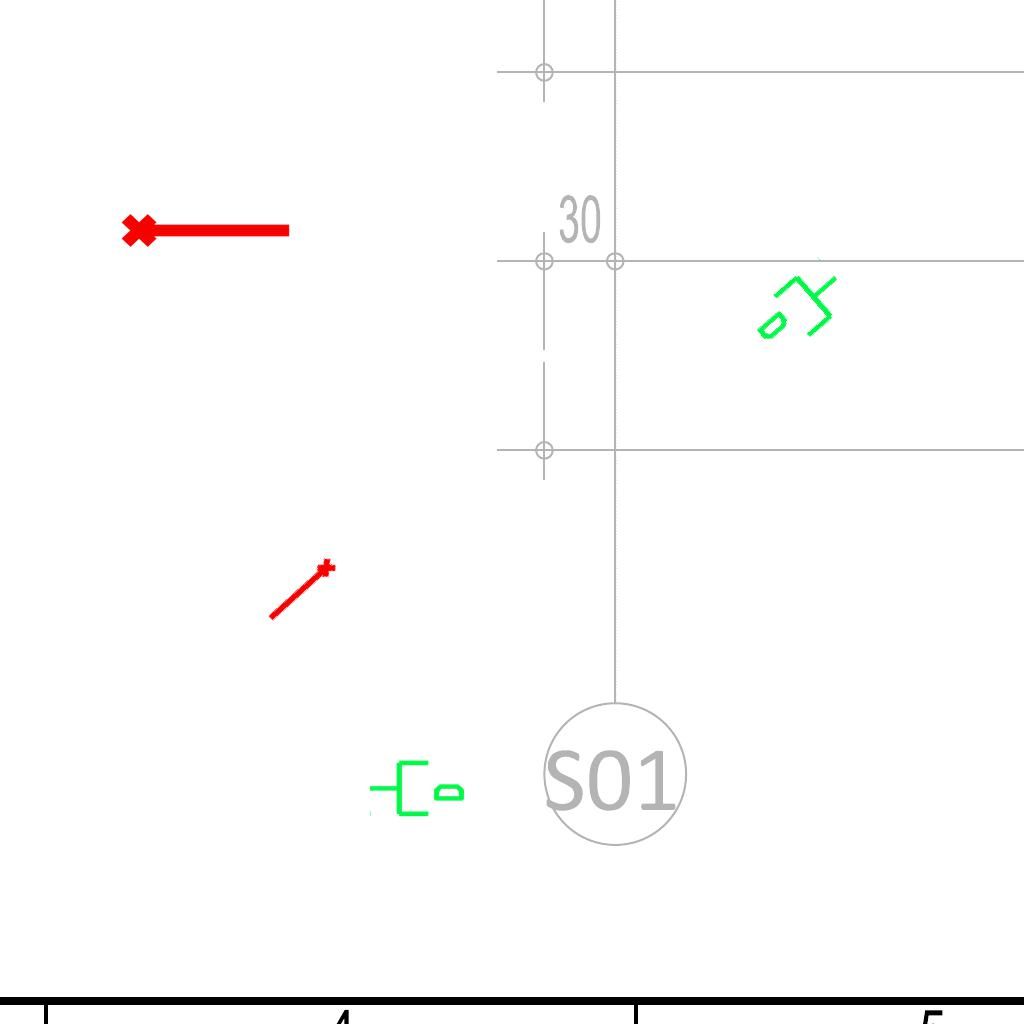ASR_Ansaugoeffnung: (119, 205, 295, 251), (261, 553, 343, 630)
Datenanschluss_einfach: (741, 251, 862, 369), (367, 752, 467, 821)
